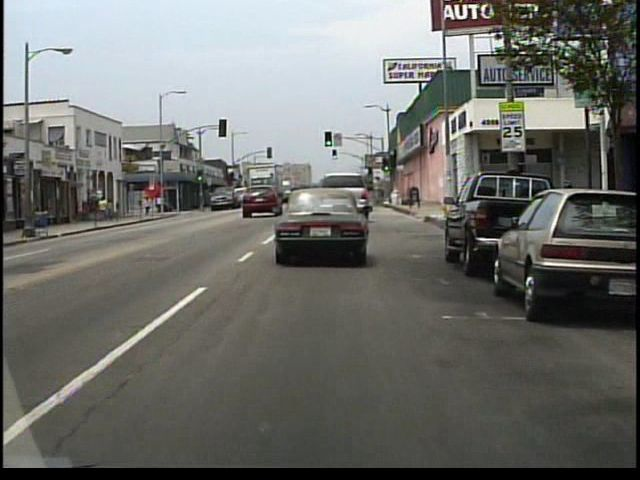person: (100, 196, 110, 222), (143, 196, 152, 216), (107, 198, 114, 221)
